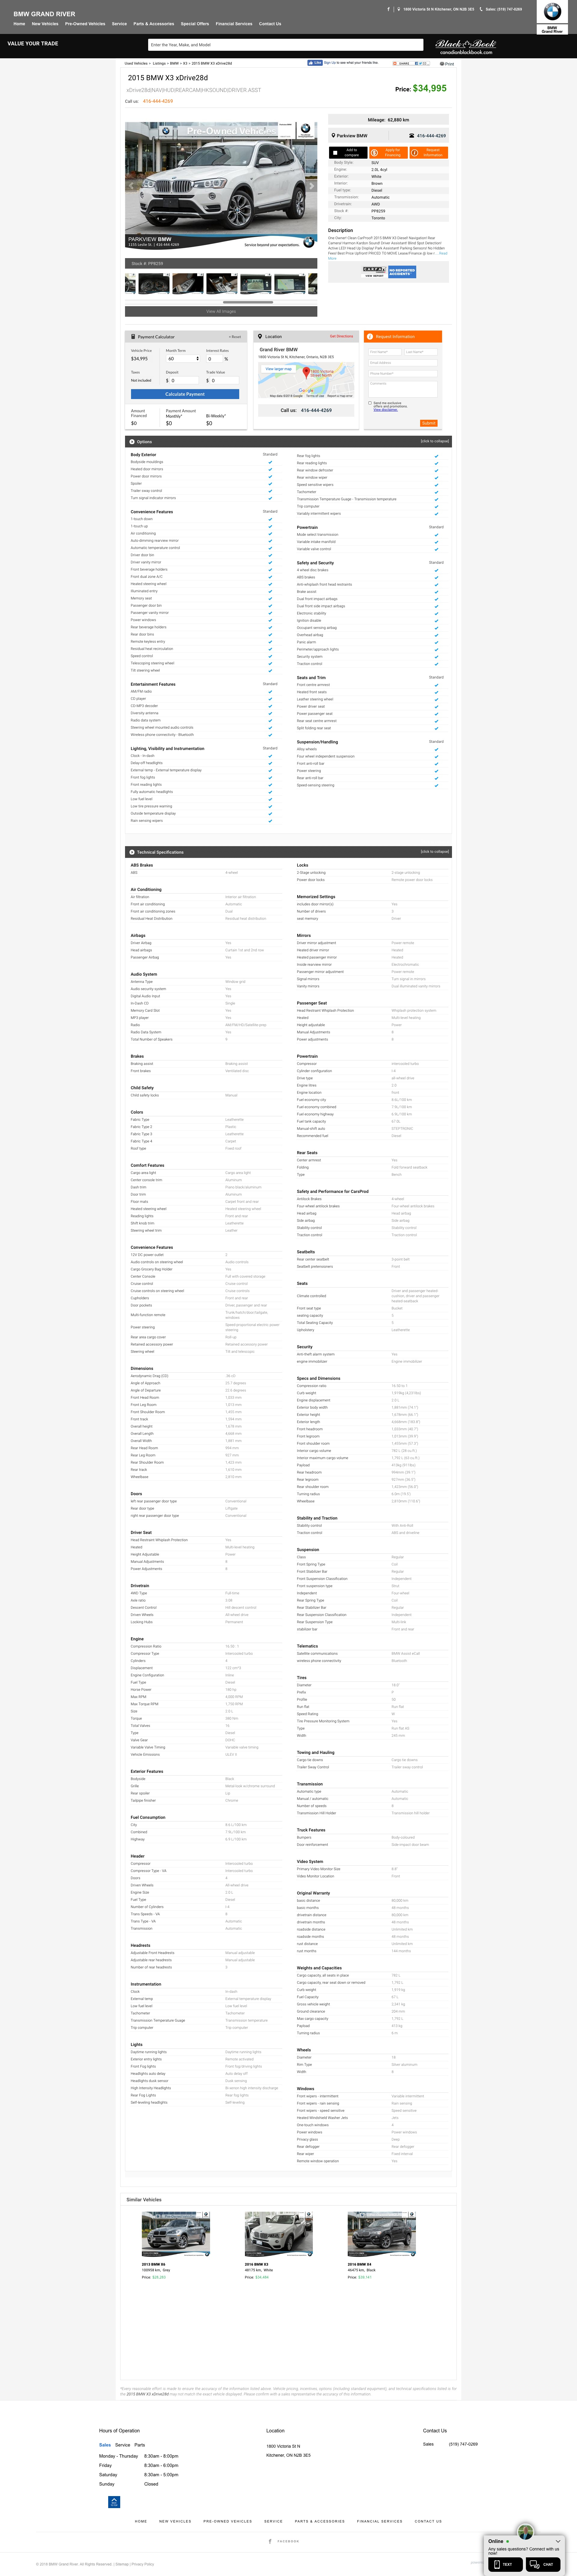car: (304, 181, 319, 192)
